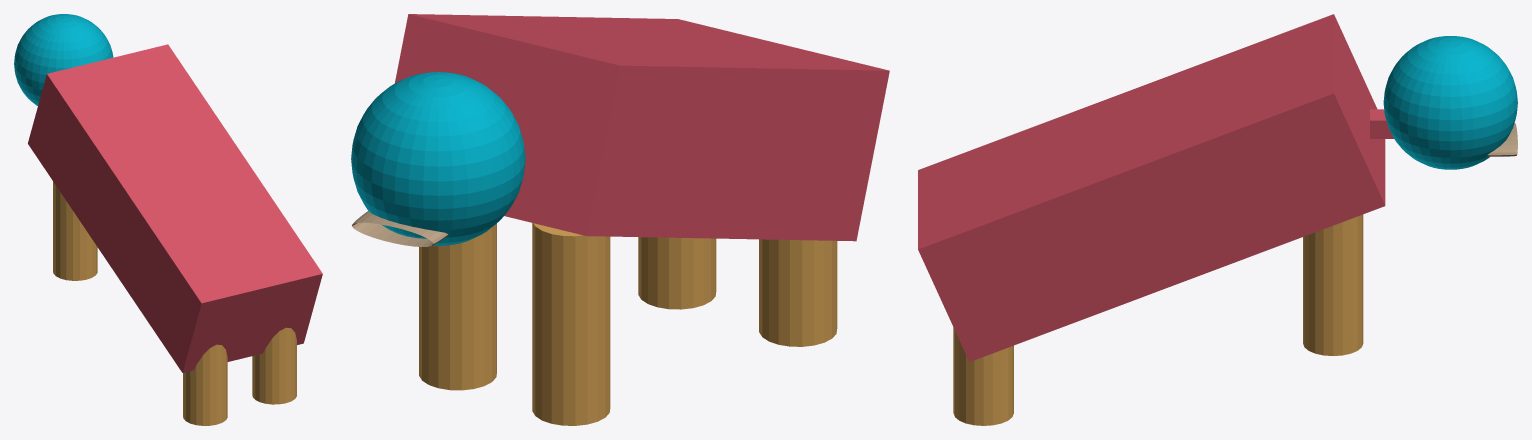
File: monster-dog-down-two pos blend.glb
3 views of the same model, side by side, from view 1: azimuth 30°, elevation 25°; view 2: azimuth 150°, elevation 25°; view 3: azimuth 270°, elevation 25° (orthographic). The views are drawn at different scales.
Visible parts, largest first — view 1: Mesh_Mesh_head_geo.001_lambert2SG.001; view 2: Mesh_Mesh_head_geo.001_lambert2SG.001; view 3: Mesh_Mesh_head_geo.001_lambert2SG.001.
Part boxes in pixels (x1,y1,x2,y2): Mesh_Mesh_head_geo.001_lambert2SG.001: (14, 14, 322, 425); Mesh_Mesh_head_geo.001_lambert2SG.001: (351, 14, 889, 425); Mesh_Mesh_head_geo.001_lambert2SG.001: (918, 14, 1517, 425).
Size of the model in its own units: 28 by 58 by 89.28.
